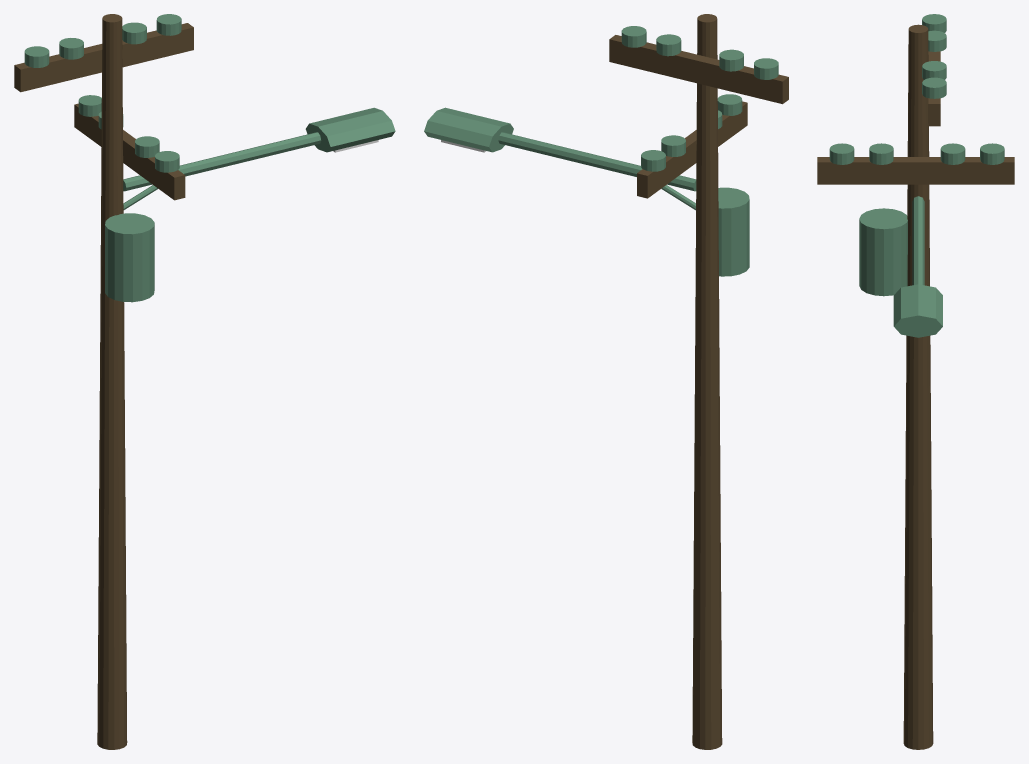
File: streetlight.fbx
3 views of the same model, side by side, from view 1: azimuth 30°, elevation 25°; view 2: azimuth 150°, elevation 25°; view 3: azimuth 270°, elevation 25° (orthographic).
Visible parts, largest first — view 1: pole, oildrum, bar, lamp-end, bar.001, lamp-arm; view 2: pole, bar, oildrum, lamp-end, bar.001, lamp-arm; view 3: pole, bar.001, oildrum, lamp-end, lamp-arm, bar, nub.004, nub.006, nub.005, nub.007, nub, nub.001 (+2 smaller).
Part boxes in pixels (x1,y1,x2,y2): pole: (97, 14, 127, 749); oildrum: (105, 213, 154, 302); bar: (14, 23, 193, 92); lamp-end: (305, 107, 395, 152); bar.001: (74, 103, 185, 200); lamp-arm: (123, 132, 321, 191); pole: (692, 14, 722, 749); bar: (609, 35, 788, 104); oildrum: (718, 187, 749, 276); lamp-end: (424, 107, 513, 152); bar.001: (637, 101, 747, 198); lamp-arm: (498, 132, 696, 191); pole: (903, 24, 933, 749); bar.001: (817, 157, 1014, 184); oildrum: (859, 208, 907, 296); lamp-end: (893, 284, 942, 337); lamp-arm: (912, 196, 924, 285); bar: (928, 51, 940, 126); nub.004: (829, 143, 854, 164); nub.006: (940, 143, 965, 164); nub.005: (869, 143, 893, 164); nub.007: (980, 143, 1004, 164); nub: (922, 77, 946, 98); nub.001: (922, 61, 946, 79).
Size of the model in its own units: 825 by 1600 by 400.
